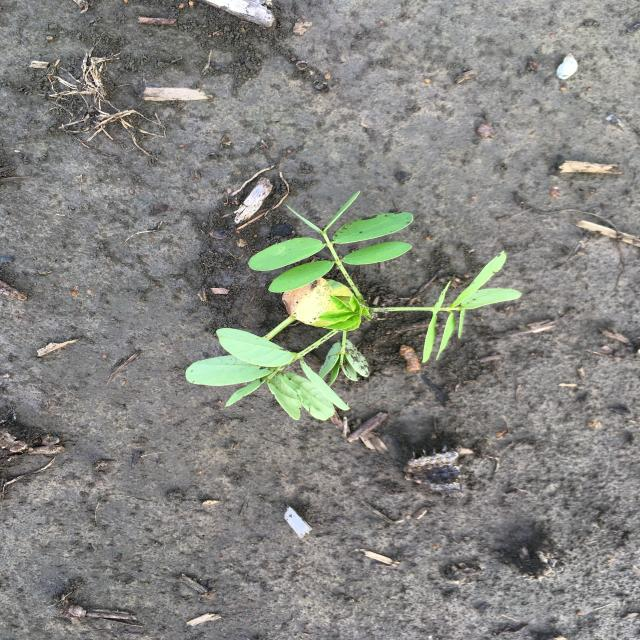Sicklepod: (182, 188, 524, 422)
